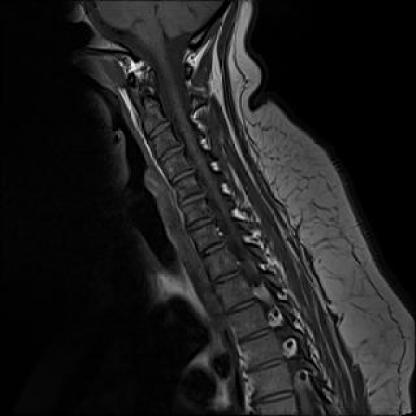Annular Disc Relaxationrotation: (165, 169, 199, 183), (175, 193, 209, 206)
